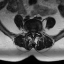CCS_stenosis: (32, 30, 34, 38)
LFS_severe_stenosis: (36, 30, 37, 33)
LLS_severe_stenosis: (34, 30, 36, 34)
RFS_severe_stenosis: (28, 29, 30, 34)
RLS_severe_stenosis: (30, 30, 32, 35)
